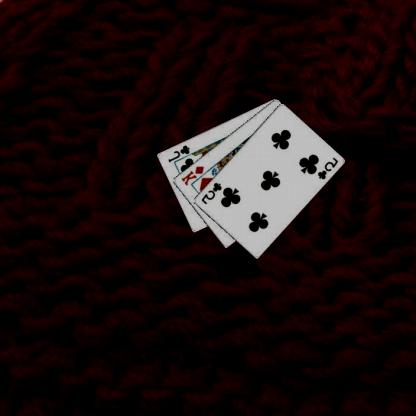5C: (200, 180, 224, 206), (317, 155, 341, 181)
JC: (167, 142, 192, 164)
KD: (180, 164, 207, 186)
